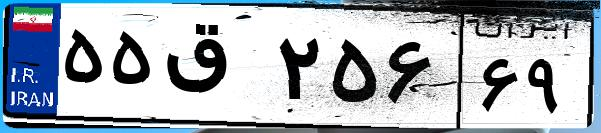2: (270, 28, 330, 110)
5: (330, 28, 385, 110), (57, 26, 110, 100), (110, 28, 158, 98)
6: (385, 28, 445, 110), (475, 38, 525, 113)
9: (525, 38, 570, 115)
ق: (158, 20, 270, 120)
